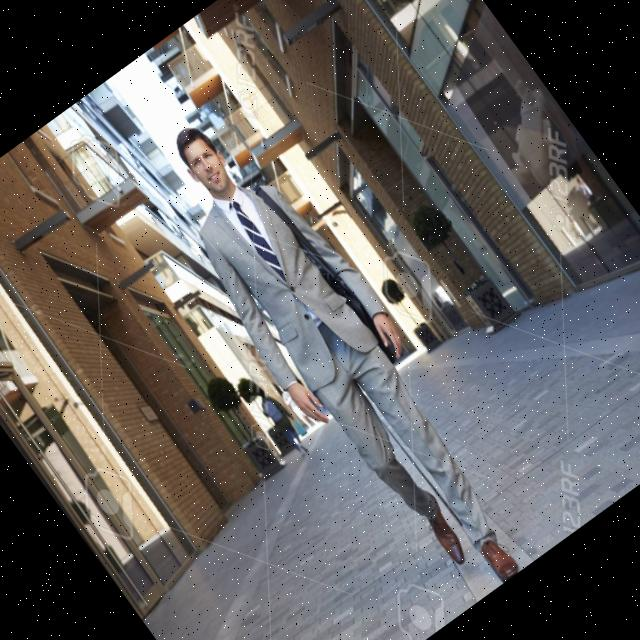Person: (122, 94, 556, 622)
